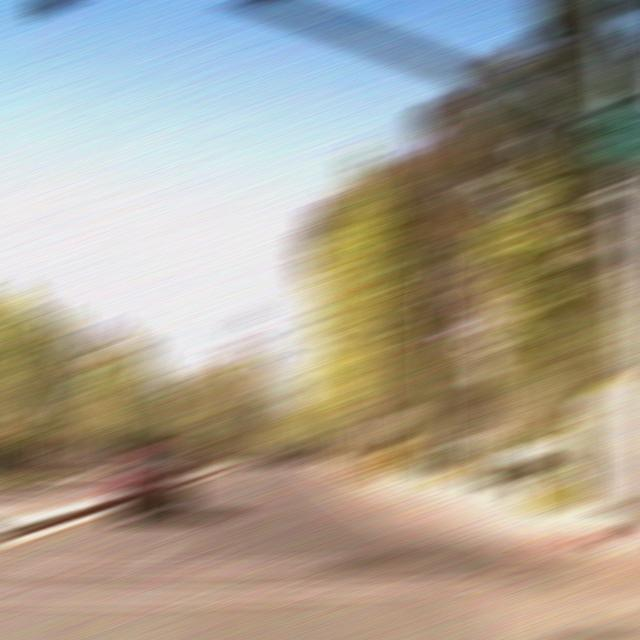speedLimit40: (464, 304, 506, 345)
